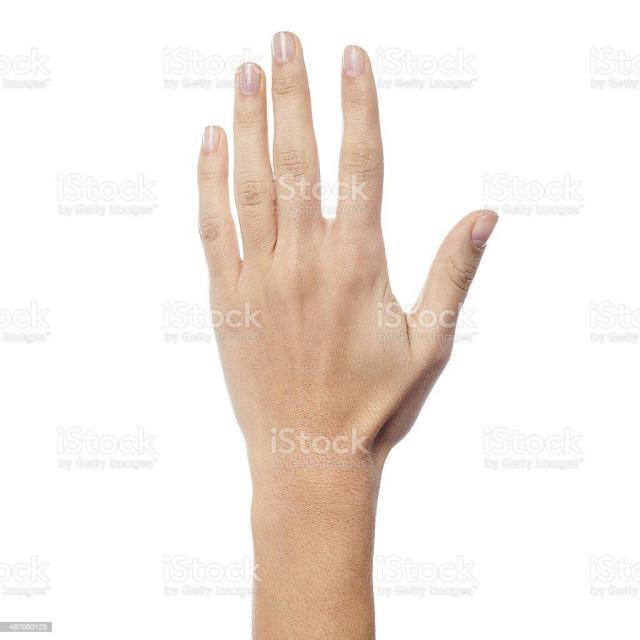hand: (195, 31, 498, 490)
